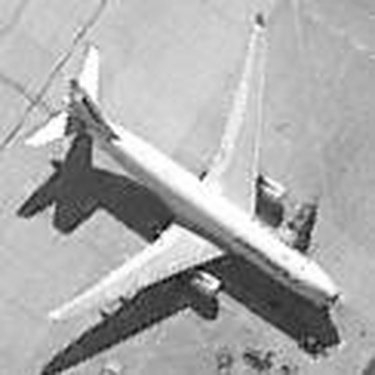airplane: (3, 12, 357, 337)
